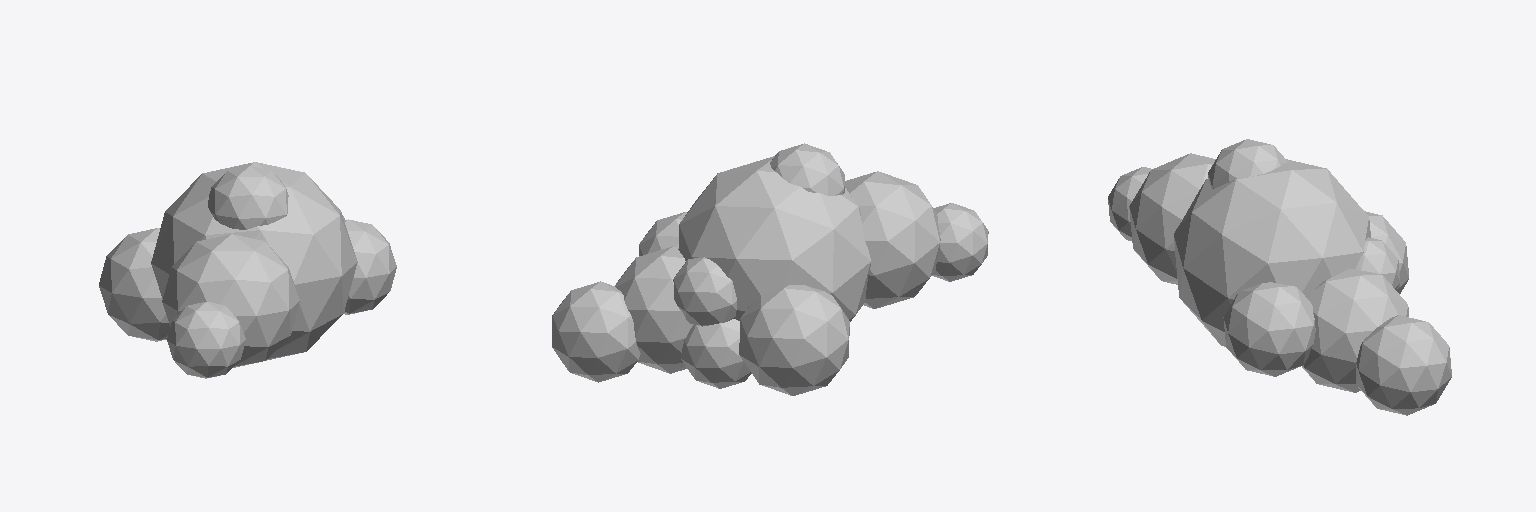
File: cloud1.obj
3 views of the same model, side by side, from view 1: azimuth 30°, elevation 25°; view 2: azimuth 150°, elevation 25°; view 3: azimuth 270°, elevation 25° (orthographic).
Parts seen in each view (by area): view 1: Icosphere.007_Icosphere.002; view 2: Icosphere.007_Icosphere.002; view 3: Icosphere.007_Icosphere.002.
Part boxes in pixels (left/top/right/bottom): Icosphere.007_Icosphere.002: left=99, top=162, right=396, bottom=378; Icosphere.007_Icosphere.002: left=552, top=143, right=988, bottom=395; Icosphere.007_Icosphere.002: left=1108, top=139, right=1451, bottom=415.
Bounding box in the file's own units: 5.63 × 3.66 × 5.59.